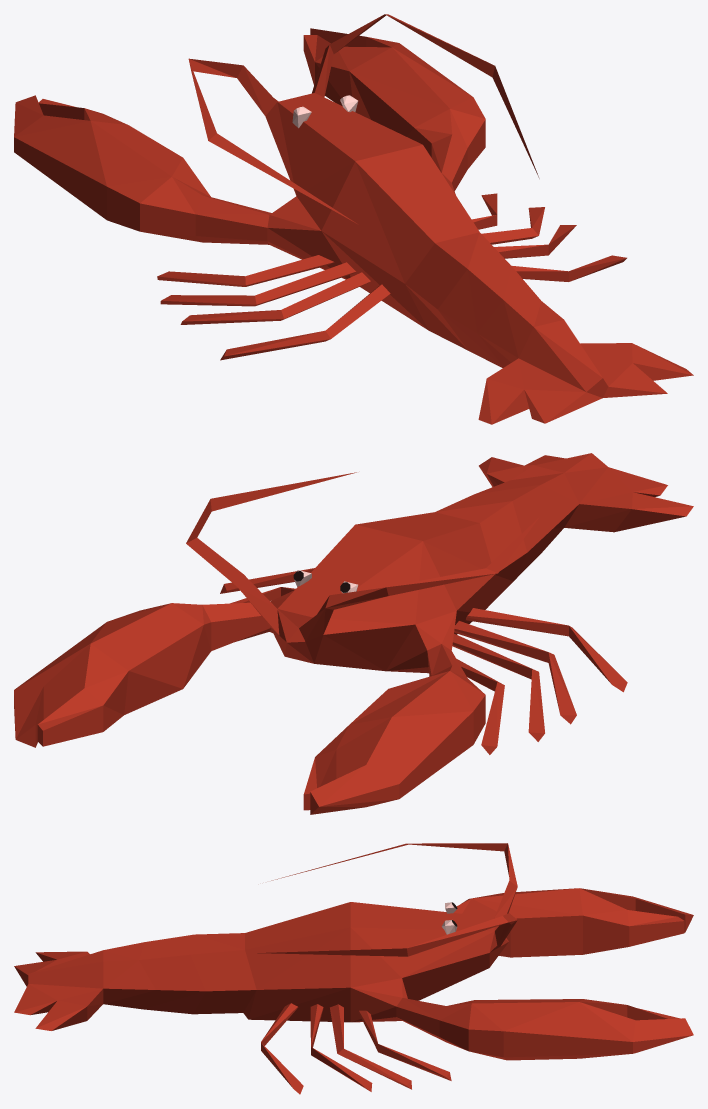
File: animals-crayfish-054.glb
The picture shows the model from 3 angles, top to bottom: view 1: azimuth 30°, elevation 25°; view 2: azimuth 150°, elevation 25°; view 3: azimuth 270°, elevation 25°; orthographic projection. The views are drawn at different scales.
Parts seen in each view (by area): view 1: Crayfish; view 2: Crayfish; view 3: Crayfish.
Boxes of the visible parts, x1=… form: Crayfish: x1=14, y1=14, x2=693, y2=424; Crayfish: x1=14, y1=453, x2=693, y2=814; Crayfish: x1=14, y1=843, x2=693, y2=1094.
Size of the model in its own units: 45.62 by 19.26 by 85.98.
1 material, 1 textured.
